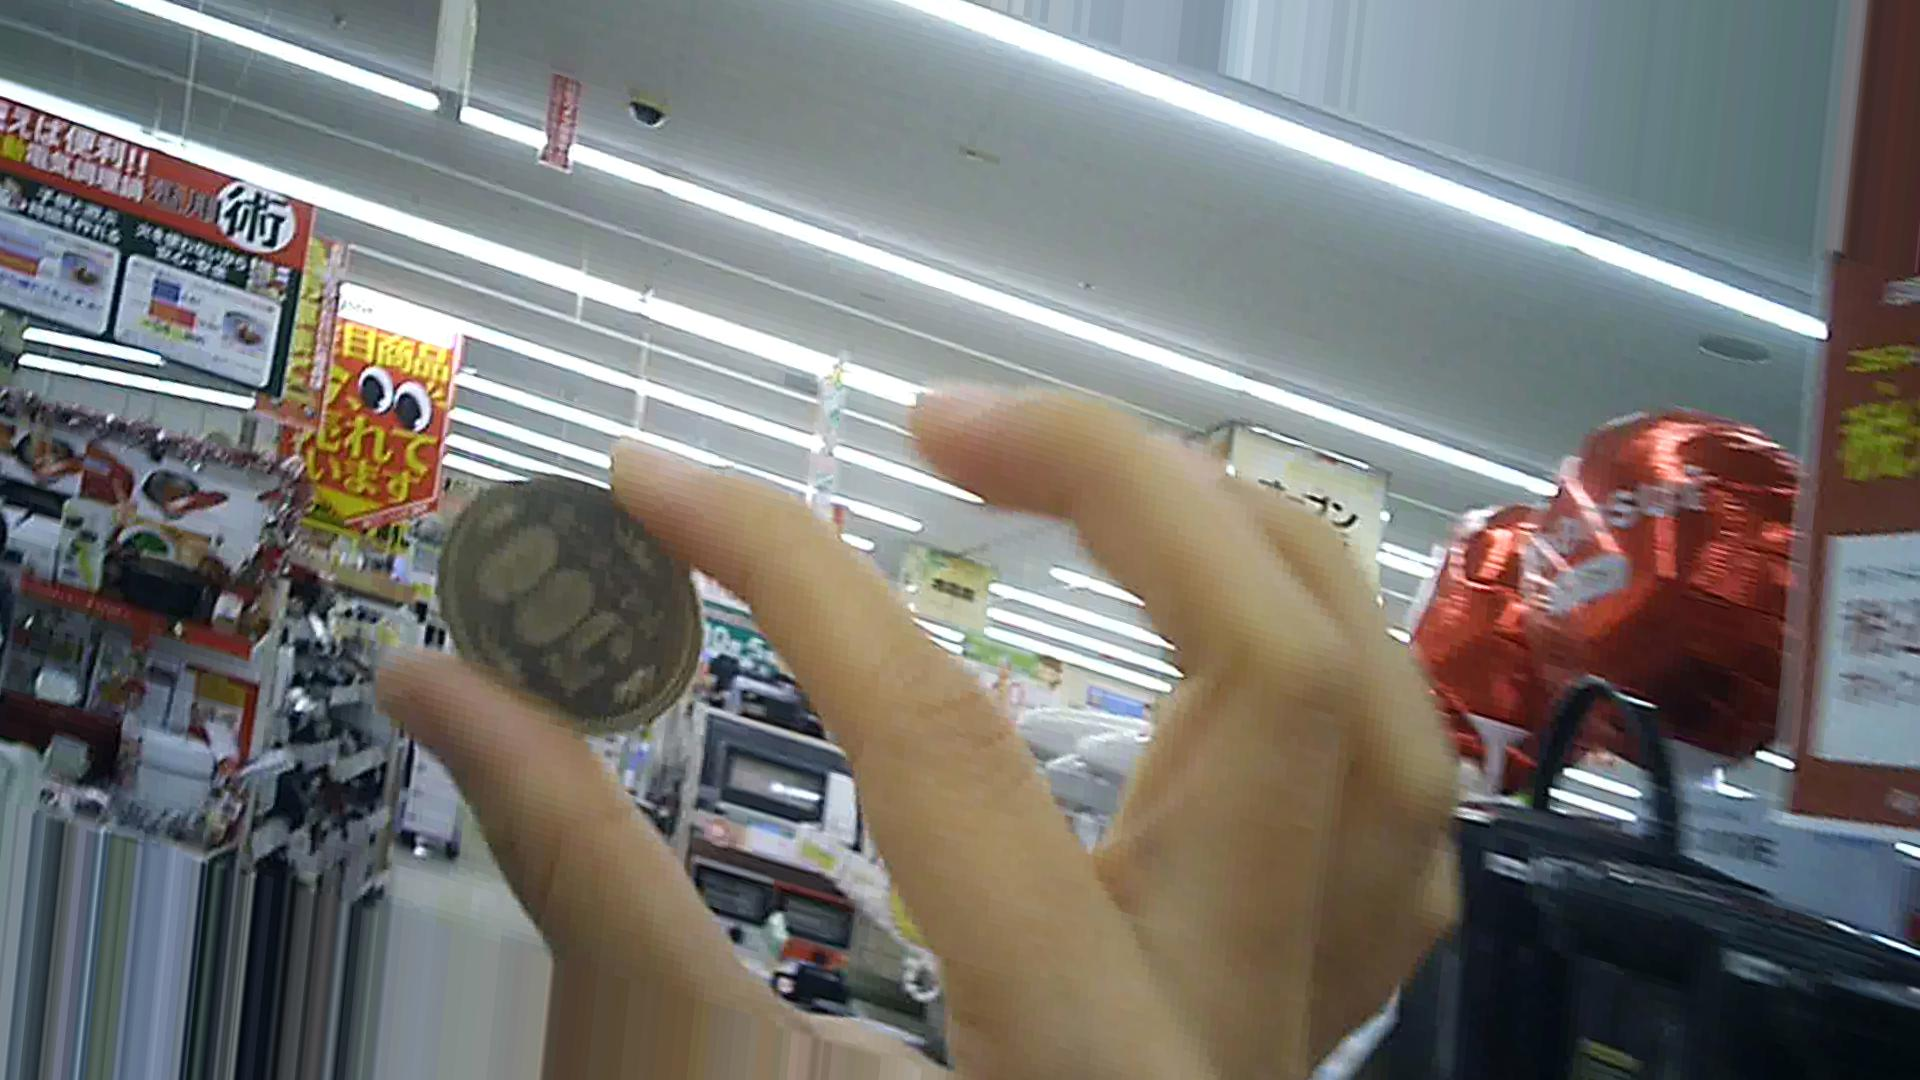500 Yen: (435, 480, 709, 731)
